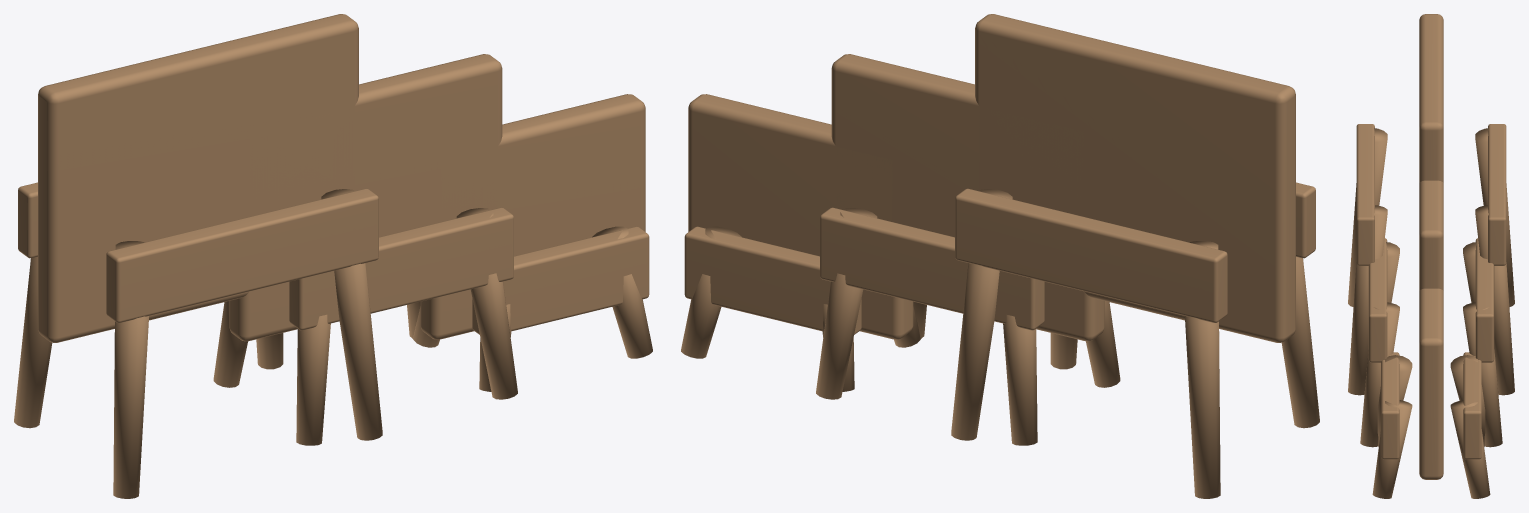
File: atelier-nesting-tables.glb
3 renders of one model, left to right at view 1: azimuth 30°, elevation 25°; view 2: azimuth 150°, elevation 25°; view 3: azimuth 270°, elevation 25°, orthographic. The views are drawn at different scales.
Visible parts, largest first — view 1: legs.073; view 2: legs.073; view 3: legs.073.
Part boxes in pixels (x1,y1,x2,y2): legs.073: (14, 14, 652, 498); legs.073: (681, 14, 1319, 498); legs.073: (1348, 14, 1514, 498).
Size of the model in its own units: 1.25 by 0.7557 by 0.4062.
